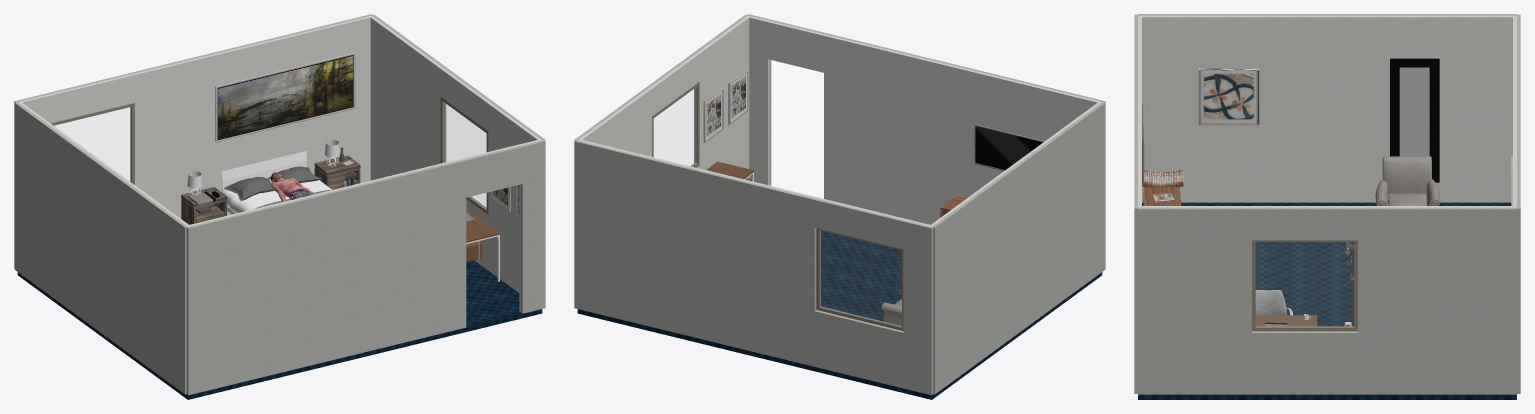
3 renders of one model, left to right at view 1: azimuth 30°, elevation 25°; view 2: azimuth 150°, elevation 25°; view 3: azimuth 270°, elevation 25°, orthographic. The views are drawn at different scales.
Visible parts, largest first — view 1: world (×12), room_geometry_bedroom__v0, glass (×2), frame (×2), P_643f8d87c8bfe86e.001; view 2: world (×11), glass (×2), room_geometry_bedroom__v0, frame (×2), P_643f8d87c8bfe86e.001; view 3: world (×14), room_geometry_bedroom__v0, glass, frame, P_643f8d87c8bfe86e.001, robot_Generic_Black.
Part boxes in pixels (x1=…): world (×12): x1=14, y1=14, x2=545, y2=395; room_geometry_bedroom__v0: x1=17, y1=260, x2=542, y2=399; glass (×2): x1=55, y1=102, x2=486, y2=207; frame (×2): x1=51, y1=97, x2=488, y2=214; P_643f8d87c8bfe86e.001: x1=466, y1=209, x2=499, y2=242; world (×11): x1=574, y1=14, x2=1105, y2=395; glass (×2): x1=654, y1=87, x2=901, y2=326; room_geometry_bedroom__v0: x1=577, y1=231, x2=1102, y2=399; frame (×2): x1=652, y1=82, x2=903, y2=330; P_643f8d87c8bfe86e.001: x1=706, y1=161, x2=753, y2=179; world (×14): x1=1134, y1=14, x2=1520, y2=394; room_geometry_bedroom__v0: x1=1138, y1=202, x2=1516, y2=399; glass: x1=1256, y1=242, x2=1353, y2=326; frame: x1=1252, y1=240, x2=1357, y2=331; P_643f8d87c8bfe86e.001: x1=1255, y1=315, x2=1317, y2=326; robot_Generic_Black: x1=1341, y1=244, x2=1354, y2=326.
Bounding box in the file's own units: 6.1 × 2.8 × 5.1.
Materials: 53 (24 with a texture image).
